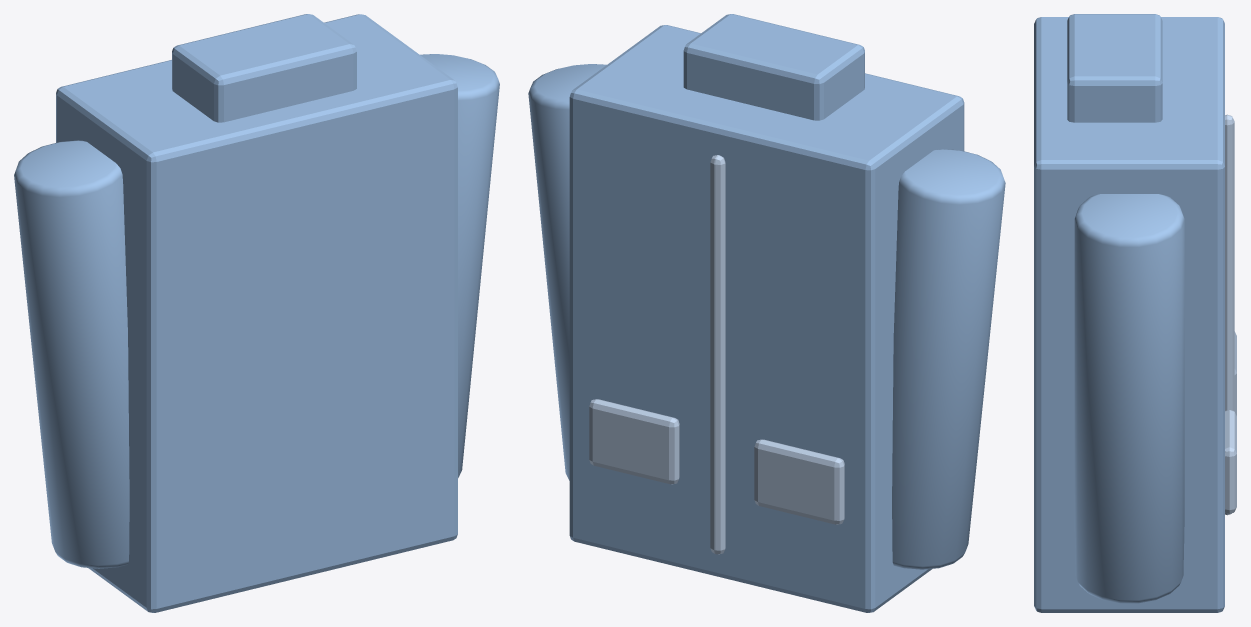
File: VM-DAM-FS15.glb
3 views of the same model, side by side, from view 1: azimuth 30°, elevation 25°; view 2: azimuth 150°, elevation 25°; view 3: azimuth 270°, elevation 25° (orthographic).
Parts seen in each view (by area): view 1: Chaqueta Abrigo Mujer Snowboard Invierno; view 2: Chaqueta Abrigo Mujer Snowboard Invierno; view 3: Chaqueta Abrigo Mujer Snowboard Invierno.
Boxes of the visible parts, x1,y1,x2,y2 form: Chaqueta Abrigo Mujer Snowboard Invierno: (14, 14, 499, 612); Chaqueta Abrigo Mujer Snowboard Invierno: (528, 14, 1005, 612); Chaqueta Abrigo Mujer Snowboard Invierno: (1034, 14, 1236, 612).
Size of the model in its own units: 0.7254 by 0.745 by 0.276.
